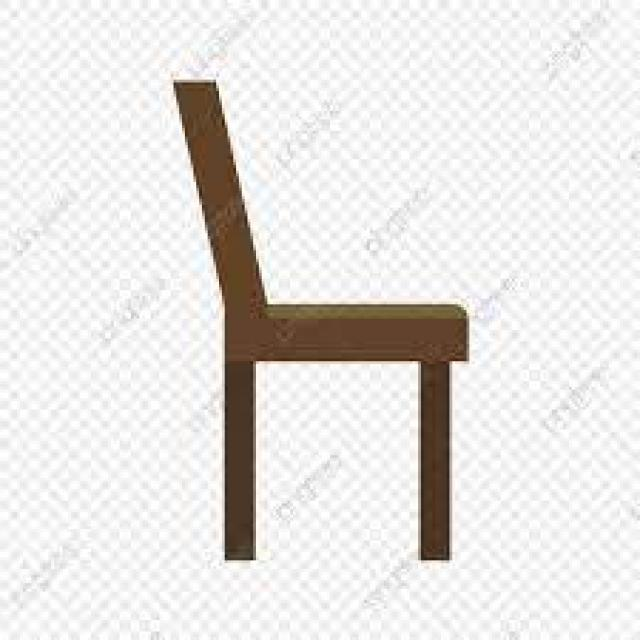chair: (118, 60, 511, 603)
